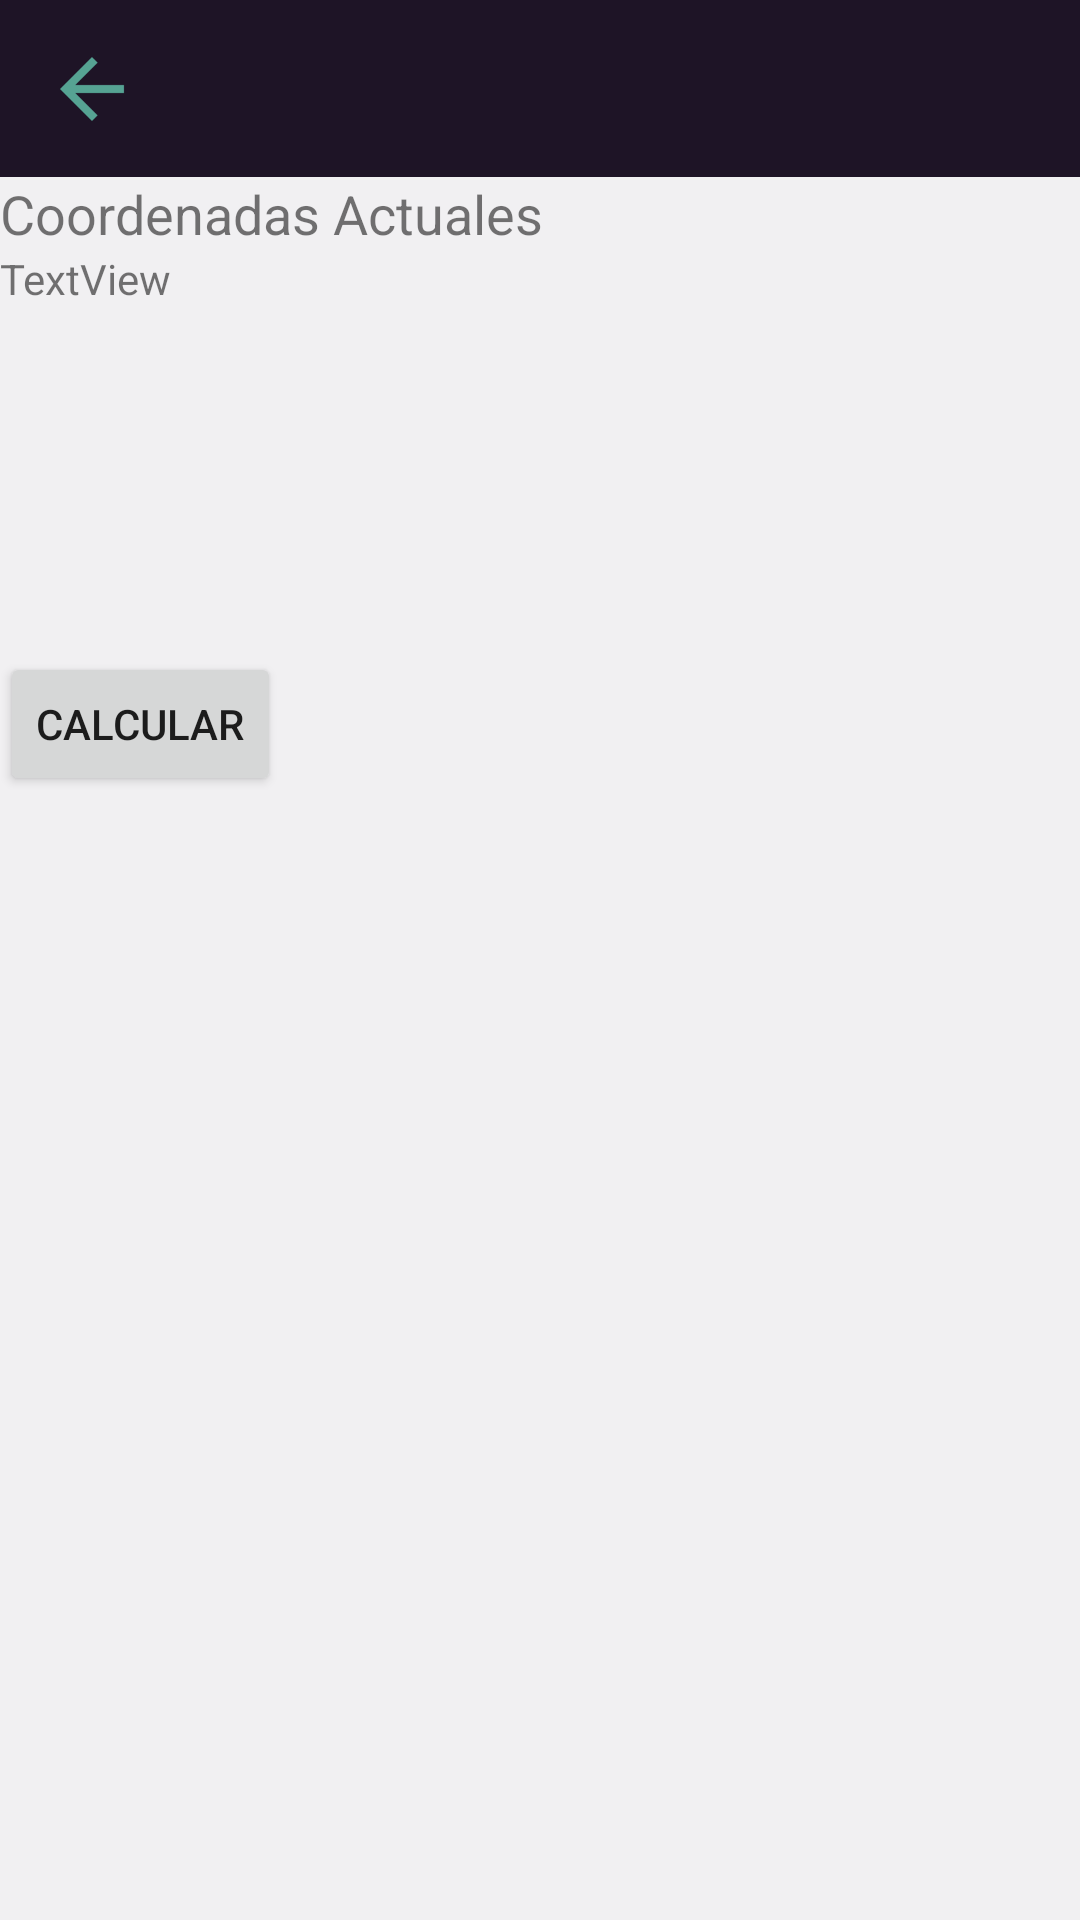

Icons on this 1080*1920 Android screen, each with the point to tap as point (x, y):
back: point (92, 89)
